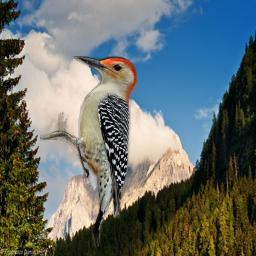Woodpecker: (40, 56, 137, 247)
